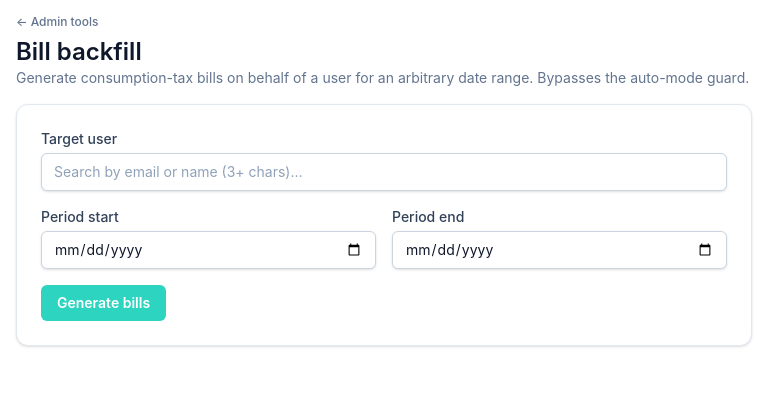
Test: AdminBillBackfillPage › rejects ranges over 365 days
Type "jane" into the search field named "search target user by email or name" at (384, 172), box [41,153,727,191]
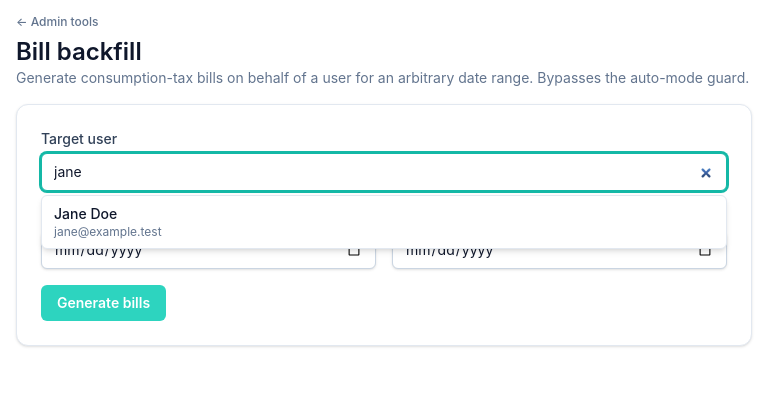
Click the option "Jane Doe jane@example.test" at (86, 214), box [42,196,726,248]
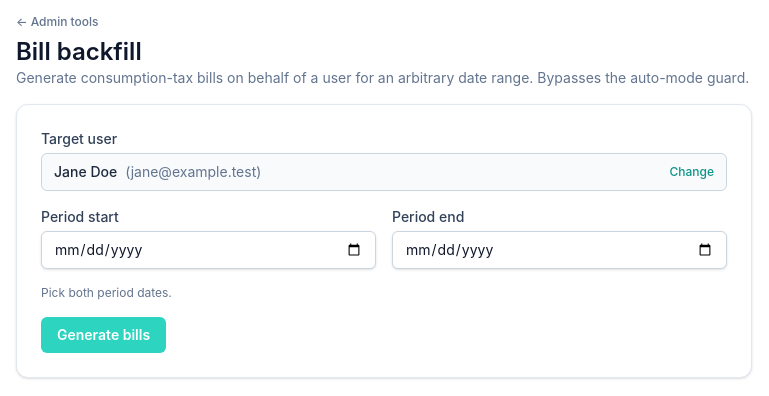
Type "2020-01-01" into the date field labelled "Period start" at (208, 250), box [41,231,376,269]
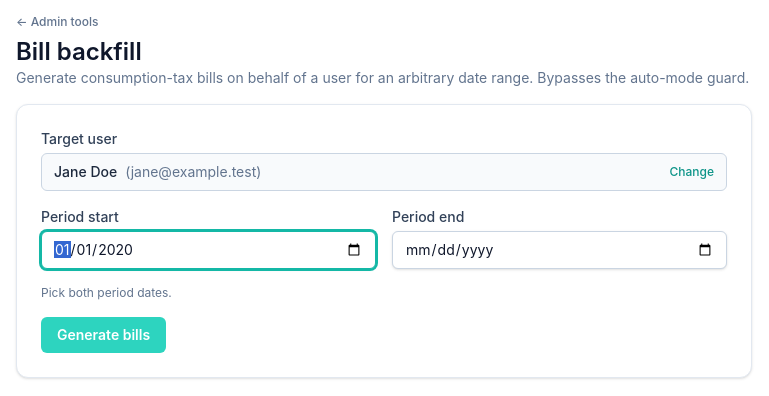
Type "2022-01-01" into the date field labelled "Period end" at (560, 250), box [392,231,727,269]
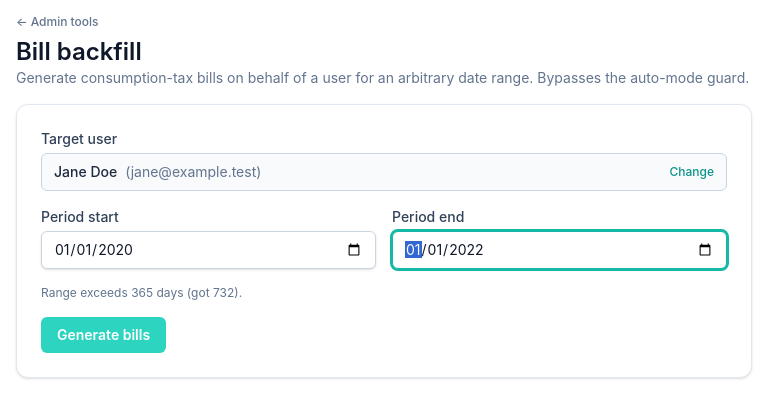
expect the text "Range exceeds 365 days (got 732)." is shown: met, box [41,285,242,300]
